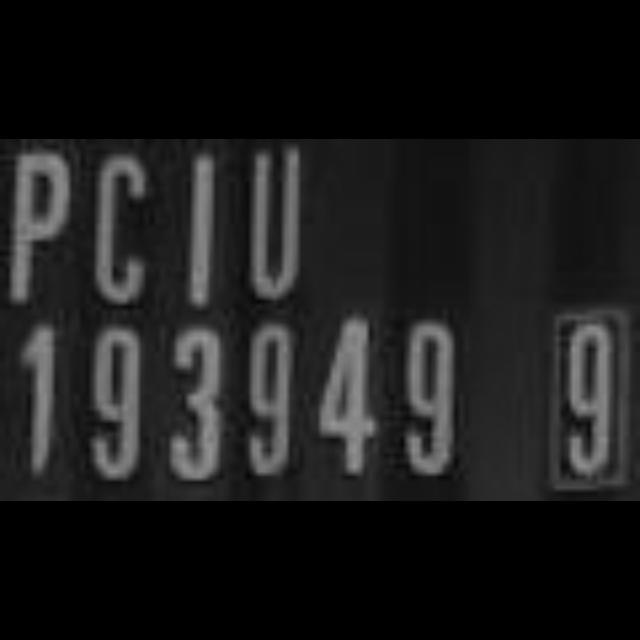1: (14, 321, 64, 485)
3: (165, 322, 228, 488)
4: (310, 310, 376, 486)
9: (395, 311, 459, 481), (87, 321, 147, 487), (560, 320, 616, 482), (244, 318, 296, 482)
c: (86, 140, 154, 314)
i: (246, 140, 308, 310), (184, 140, 228, 314)
p: (0, 140, 78, 304)
